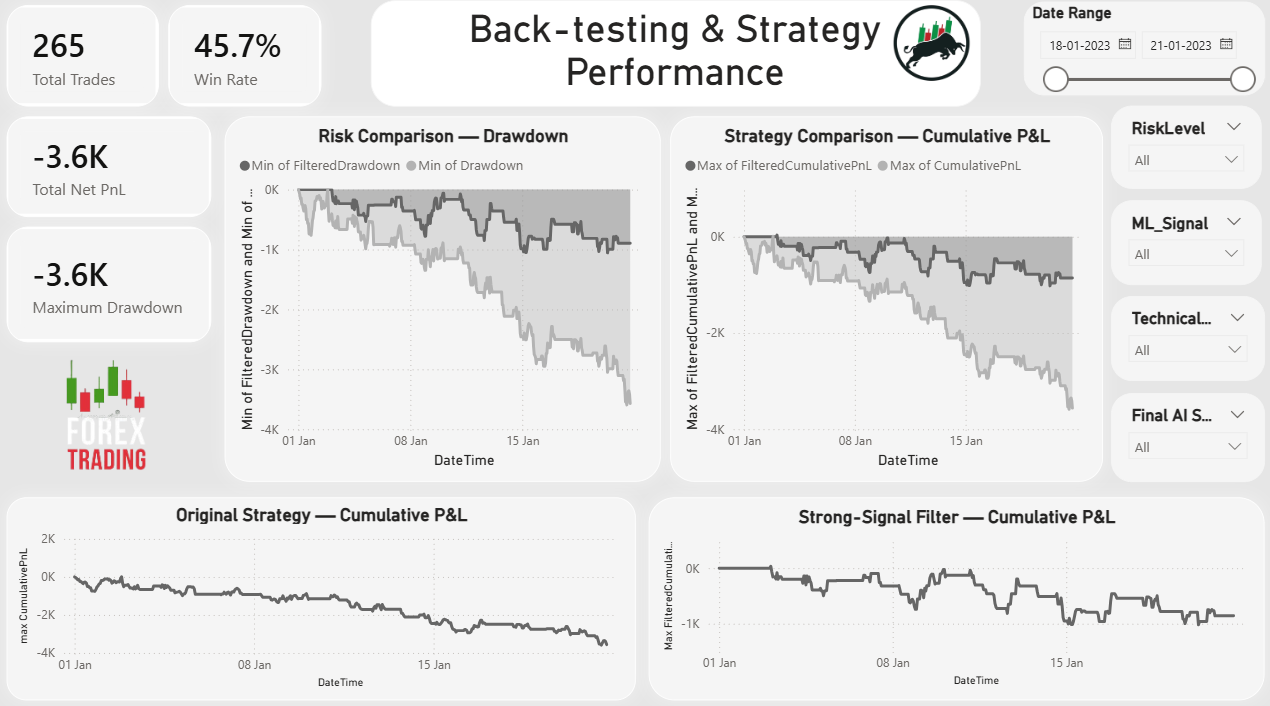

The dashboard page shown, as its layout file describes it:
{"tool":"powerbi","page":{"name":"Backtesting & Strategy Performance","canvas":[1280,720],"ordinal":2},"visuals":[{"type":"cardVisual","fields":{"Data":["forex_powerbi_master.Total Trades"]},"box":[9.2,11.5,152.4,102],"z":0},{"type":"cardVisual","fields":{"Data":["forex_powerbi_master.Win Rate"]},"box":[171.8,11.5,153.5,102],"z":1000},{"type":"cardVisual","fields":{"Data":["forex_powerbi_master.Total Net PnL"]},"box":[9.2,123.7,205.1,100.8],"z":2000},{"type":"cardVisual","fields":{"Data":["forex_powerbi_master.Maximum Drawdown"]},"box":[9.2,234.9,205.1,115.7],"z":3000},{"type":"lineChart","title":"Original Strategy — Cumulative P&L","fields":{"Category":["forex_powerbi_master.DateTime"],"Y":["forex_powerbi_master.max CumulativePnL"]},"box":[9.2,506.4,631.2,203.9],"z":4000},{"type":"lineChart","title":"Risk Comparison — Drawdown","fields":{"Category":["forex_powerbi_master.DateTime"],"Y":["Min(forex_powerbi_master.FilteredDrawdown)","Min(forex_powerbi_master.Drawdown)"]},"box":[228,123.7,437.6,366.6],"z":5000},{"type":"lineChart","title":"Strong-Signal Filter — Cumulative P&L","fields":{"Y":["forex_powerbi_master.Max FilteredCumulativePnL"],"Category":["forex_powerbi_master.DateTime"]},"box":[654.2,506.4,617.5,203.9],"z":6000},{"type":"lineChart","title":"Strategy Comparison — Cumulative P&L","fields":{"Y":["Max(forex_powerbi_master.FilteredCumulativePnL)","Max(forex_powerbi_master.CumulativePnL)"],"Category":["forex_powerbi_master.DateTime"]},"box":[674.8,123.7,434.2,366.6],"z":7000},{"type":"slicer","title":"Date Range","fields":{"Values":["forex_ml_predictions.DateTime"]},"box":[1029.9,8,241.7,93.9],"z":8000},{"type":"slicer","fields":{"Values":["forex_powerbi_master.FinalAISignal"]},"box":[1117,401,154.7,89.4],"z":9000},{"type":"slicer","fields":{"Values":["forex_powerbi_master.TechnicalSignal"]},"box":[1117,303.6,154.7,84.8],"z":10000},{"type":"slicer","fields":{"Values":["forex_powerbi_master.RiskLevel"]},"box":[1117,113.4,151.2,83.6],"z":11000},{"type":"slicer","fields":{"Values":["forex_ml_predictions.ML_Signal"]},"box":[1117,207.4,151.2,84.8],"z":12000},{"type":"textbox","box":[374.6,6.9,611.8,106.5],"z":13000},{"type":"image","box":[0,359.7,214.2,130.6],"z":14000},{"type":"image","box":[892.4,6.9,90.5,85.9],"z":15000}]}

Visuals, with their boxes in screenshot pixels (x1, y1, x2, y2), scaled from the page's 1280x720 canvas onto the 1270x706 screenshot:
cardVisual - forex_powerbi_master.Total Trades: pyautogui.locateOnScreen(9, 11, 160, 111)
cardVisual - forex_powerbi_master.Win Rate: pyautogui.locateOnScreen(170, 11, 323, 111)
cardVisual - forex_powerbi_master.Total Net PnL: pyautogui.locateOnScreen(9, 121, 213, 220)
cardVisual - forex_powerbi_master.Maximum Drawdown: pyautogui.locateOnScreen(9, 230, 213, 344)
"Original Strategy — Cumulative P&L" lineChart: pyautogui.locateOnScreen(9, 497, 635, 696)
"Risk Comparison — Drawdown" lineChart: pyautogui.locateOnScreen(226, 121, 660, 481)
"Strong-Signal Filter — Cumulative P&L" lineChart: pyautogui.locateOnScreen(649, 497, 1262, 696)
"Strategy Comparison — Cumulative P&L" lineChart: pyautogui.locateOnScreen(670, 121, 1100, 481)
"Date Range" slicer: pyautogui.locateOnScreen(1022, 8, 1262, 100)
slicer - forex_powerbi_master.FinalAISignal: pyautogui.locateOnScreen(1108, 393, 1262, 481)
slicer - forex_powerbi_master.TechnicalSignal: pyautogui.locateOnScreen(1108, 298, 1262, 381)
slicer - forex_powerbi_master.RiskLevel: pyautogui.locateOnScreen(1108, 111, 1258, 193)
slicer - forex_ml_predictions.ML_Signal: pyautogui.locateOnScreen(1108, 203, 1258, 287)
textbox: pyautogui.locateOnScreen(372, 7, 979, 111)
image: pyautogui.locateOnScreen(0, 353, 213, 481)
image: pyautogui.locateOnScreen(885, 7, 975, 91)
